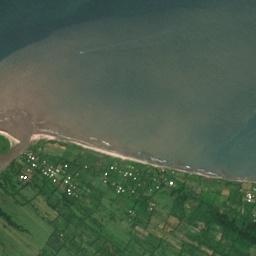Ship: (79, 50, 87, 55)
